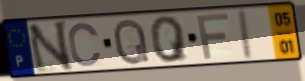C: (67, 21, 104, 69)
F: (194, 12, 231, 61)
I: (238, 8, 255, 62)
N: (25, 18, 75, 75)
Q: (148, 15, 191, 65), (112, 17, 152, 67)
